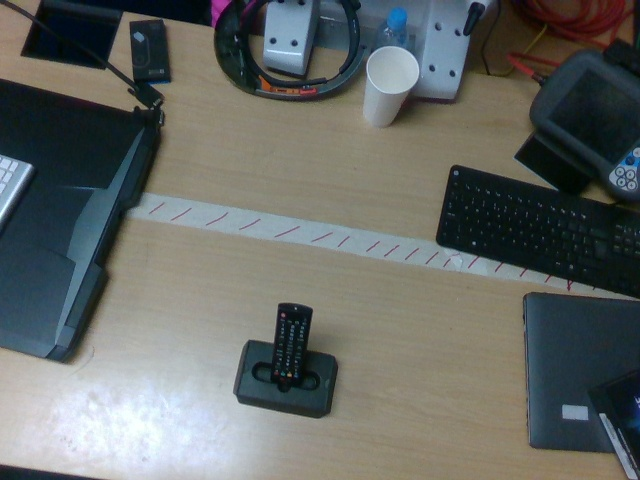remote: (270, 302, 313, 386)
